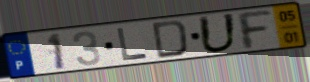1: (45, 32, 69, 71)
3: (71, 30, 102, 67)
D: (151, 18, 191, 60)
F: (233, 9, 275, 52)
L: (115, 26, 150, 62)
U: (196, 12, 240, 55)
